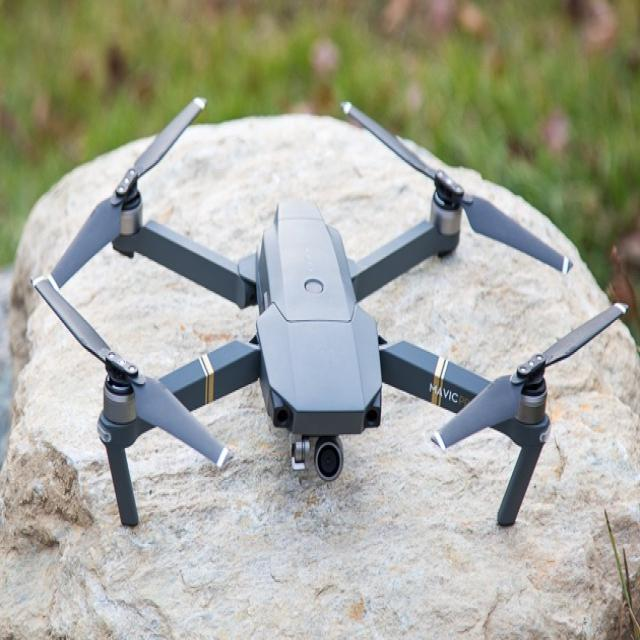drone: (49, 93, 606, 526)
